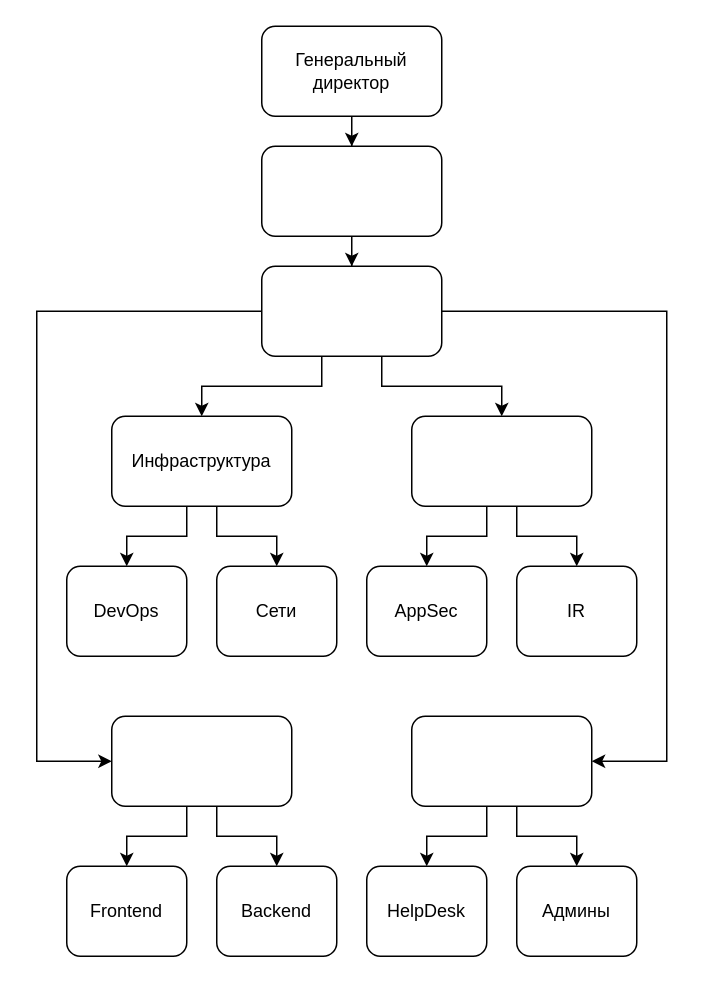
Some shapes in this 705 by 983 pixel diagram are drawn without their labels. The shapes that lost their labels are listed below. From the top down, each one's centre as x and y in pixels, then its label:
(x=351, y=190): Заместитель генерального директора
(x=351, y=310): Директор по IT отделению
(x=501, y=460): Безопасность
(x=201, y=760): Разработка
(x=501, y=760): Поддержка и сервис
